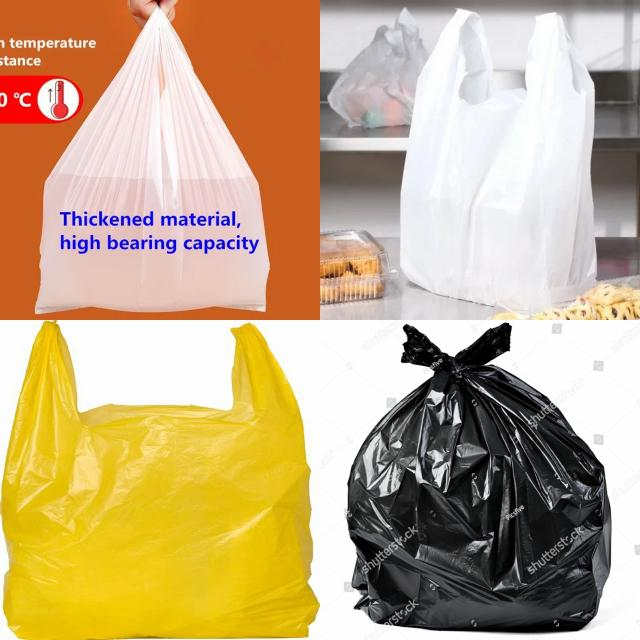Single-layer Plastic: (2, 322, 319, 640), (348, 322, 611, 630), (35, 8, 269, 314), (400, 10, 596, 305), (329, 9, 428, 127)
